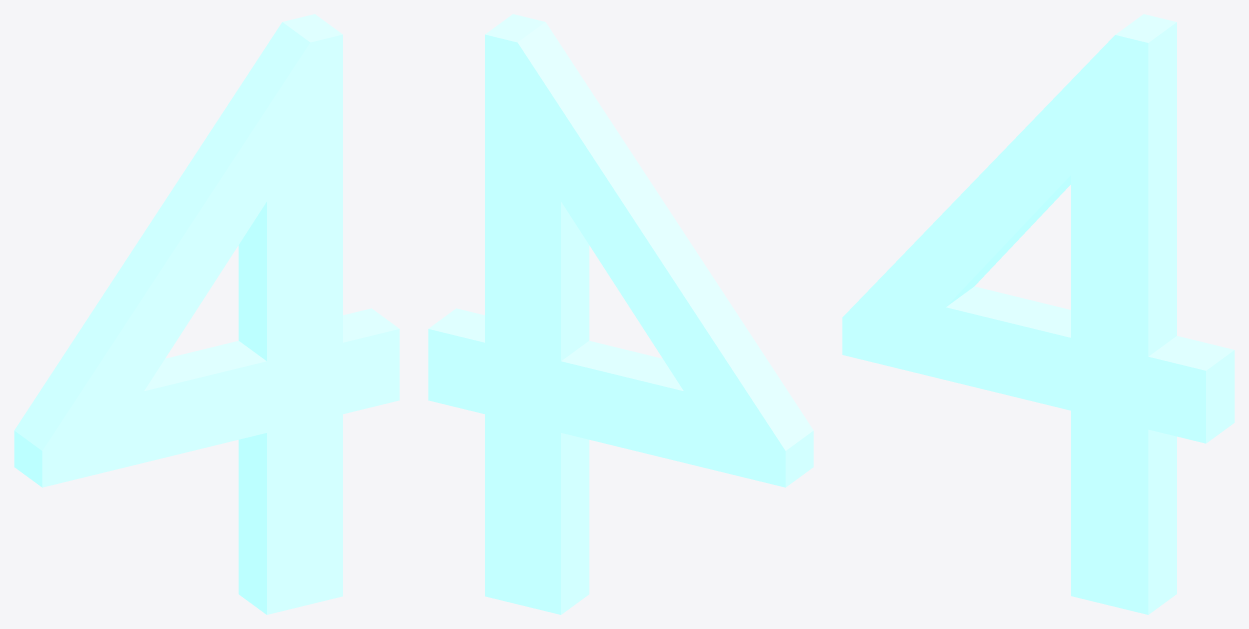
The picture shows the model from 3 angles, left to right: view 1: azimuth 30°, elevation 25°; view 2: azimuth 150°, elevation 25°; view 3: azimuth 330°, elevation 25°; orthographic projection.
Parts seen in each view (by area): view 1: 4; view 2: 4; view 3: 4.
Boxes of the visible parts, x1,y1,x2,y2 form: 4: [14, 14, 399, 614]; 4: [428, 14, 813, 614]; 4: [842, 14, 1234, 614].
Size of the model in its own units: 3.71 by 5.57 by 0.5048.
